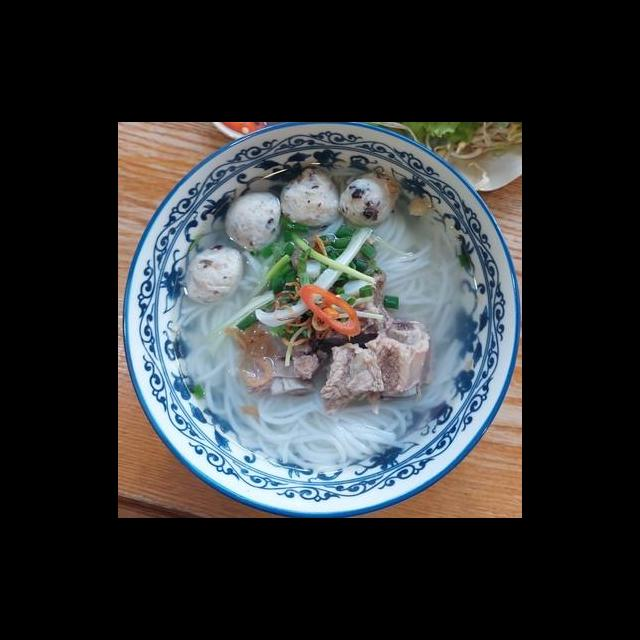bun: (210, 385, 436, 475), (171, 297, 258, 418), (371, 211, 463, 324)
bun moc: (121, 143, 521, 512)
thit heo: (318, 339, 386, 417)
vien moc: (276, 162, 346, 231), (222, 188, 291, 256), (179, 243, 247, 309), (336, 167, 399, 234)
